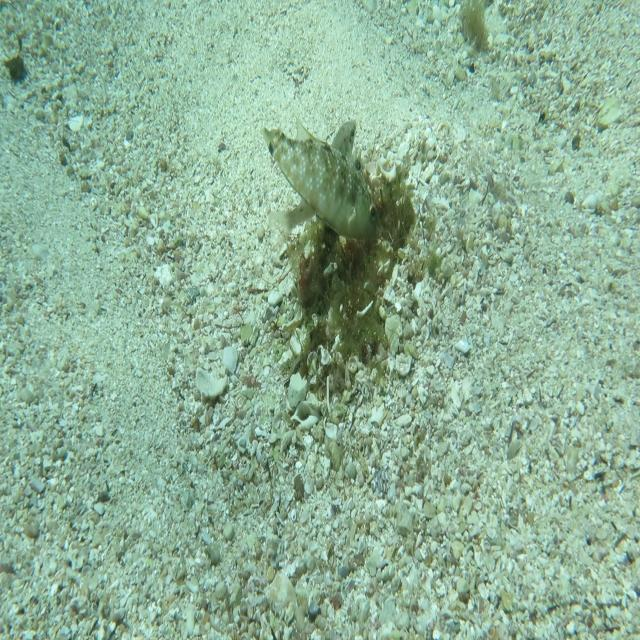NIP_CORE: (261, 123, 385, 242)
core_nest: (359, 197, 400, 242)
female: (268, 118, 358, 251)
nest: (288, 139, 441, 396)
